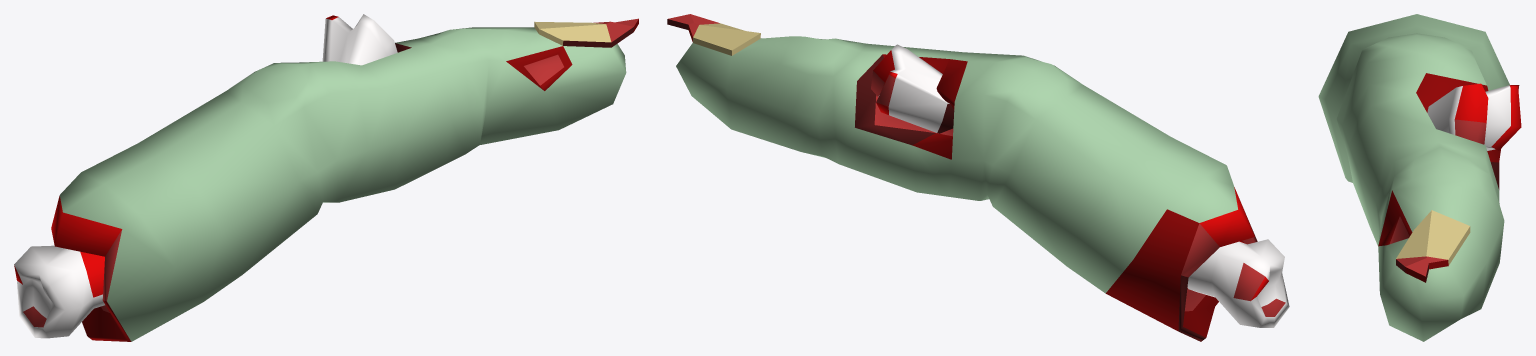
The model's file is fingerBullet.FBX.
3 views of the same model, side by side, from view 1: azimuth 30°, elevation 25°; view 2: azimuth 150°, elevation 25°; view 3: azimuth 270°, elevation 25° (orthographic). The views are drawn at different scales.
Visible parts, largest first — view 1: fingerBullet; view 2: fingerBullet; view 3: fingerBullet.
Boxes of the visible parts, box(x1,y1,x2,y2) form: fingerBullet: box(14, 14, 638, 341); fingerBullet: box(667, 14, 1289, 341); fingerBullet: box(1318, 14, 1521, 341).
Bounding box in the file's own units: 53.51 × 19.93 × 13.5.
